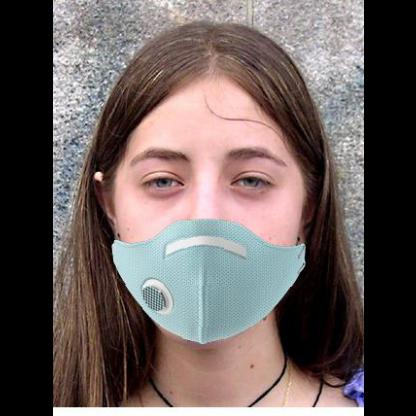FFP Mask: (101, 79, 316, 343)
